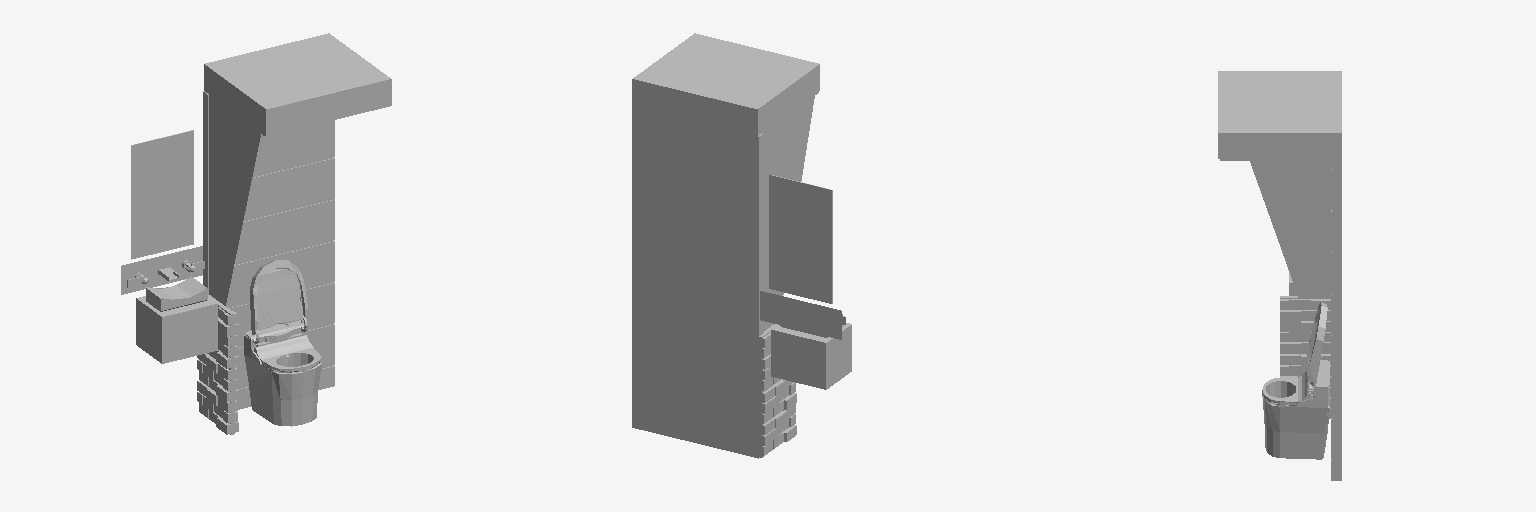
File: BAÑO1.obj
The picture shows the model from 3 angles: view 1: azimuth 30°, elevation 25°; view 2: azimuth 150°, elevation 25°; view 3: azimuth 270°, elevation 25°; orthographic projection.
Visible parts, largest first — view 1: Layer_Tablaroca, Layer_Lambrin_Porcelanitado, Layer_Porcelana, Layer_Vidrio, Layer_Madera, Layer_Acero, Layer_Muro_de_Luz; view 2: Layer_Tablaroca, Layer_Vidrio, Layer_Madera, Layer_Lambrin_Porcelanitado, Layer_Muro_de_Luz; view 3: Layer_Tablaroca, Layer_Porcelana, Layer_Lambrin_Porcelanitado.
Part boxes in pixels (bbox=[...]): Layer_Tablaroca: bbox=[121, 33, 391, 388]; Layer_Lambrin_Porcelanitado: bbox=[197, 95, 389, 434]; Layer_Porcelana: bbox=[146, 260, 321, 426]; Layer_Vidrio: bbox=[131, 130, 193, 259]; Layer_Madera: bbox=[136, 296, 217, 363]; Layer_Acero: bbox=[127, 259, 307, 343]; Layer_Muro_de_Luz: bbox=[207, 295, 234, 434]; Layer_Tablaroca: bbox=[632, 33, 841, 458]; Layer_Vidrio: bbox=[769, 175, 832, 303]; Layer_Madera: bbox=[771, 323, 851, 389]; Layer_Lambrin_Porcelanitado: bbox=[762, 92, 818, 456]; Layer_Muro_de_Luz: bbox=[758, 324, 780, 457]; Layer_Tablaroca: bbox=[1218, 71, 1341, 480]; Layer_Porcelana: bbox=[1262, 302, 1329, 459]; Layer_Lambrin_Porcelanitado: bbox=[1220, 159, 1331, 480].
Size of the model in its own units: 50.74 by 80.99 by 26.25.